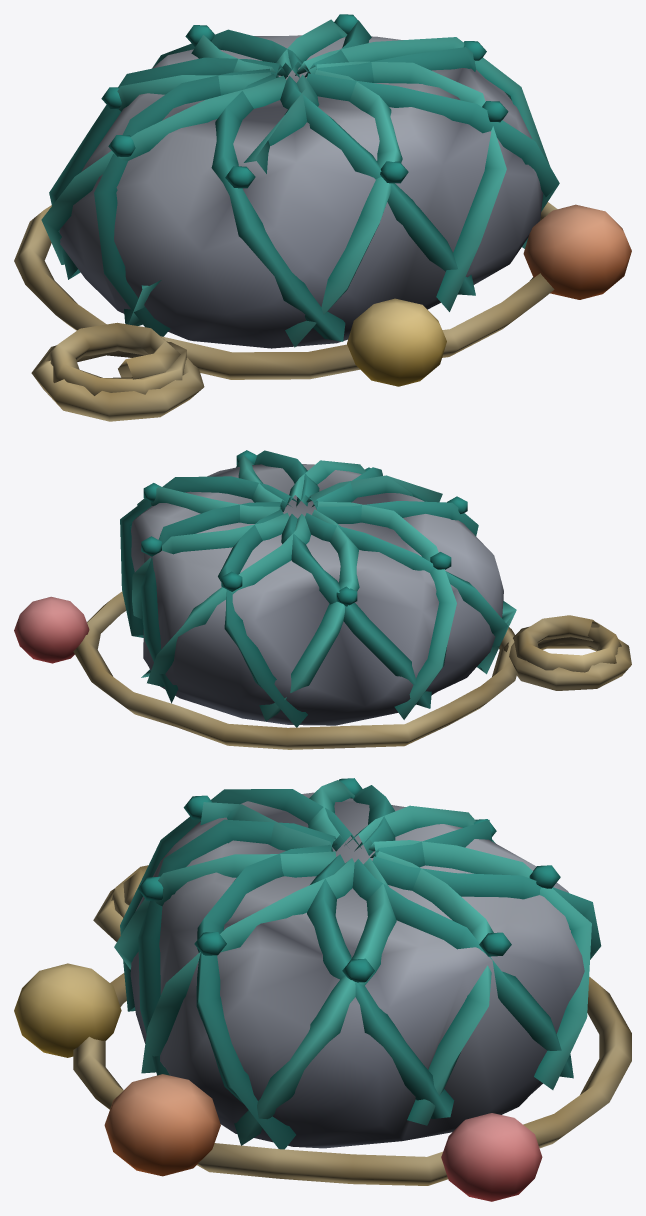
File: prop-scav-netScraps-full.glb
3 views of the same model, one above another, from view 1: azimuth 30°, elevation 25°; view 2: azimuth 150°, elevation 25°; view 3: azimuth 270°, elevation 25° (orthographic). The views are drawn at different scales.
Parts seen in each view (by area): view 1: body; view 2: body; view 3: body.
Part boxes in pixels (x1,y1,x2,y2): body: (14, 14, 631, 421); body: (14, 450, 631, 749); body: (14, 778, 631, 1201).
Size of the model in its own units: 1.2 by 0.4324 by 0.9765.
